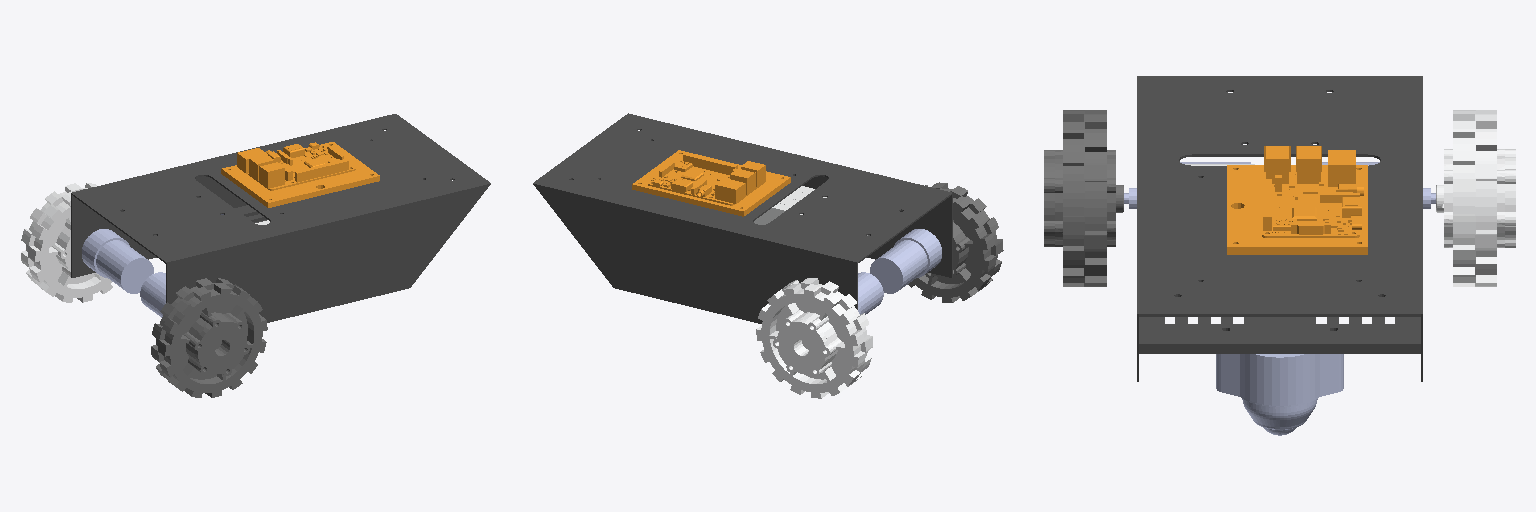
URDF robot description (watchdog):
<?xml version="1.0" encoding="utf-8"?>
<!-- This URDF was automatically created by SolidWorks to URDF Exporter! Originally created by [author] ([email redacted]) 
     Commit Version: 1.5.1-0-g916b5db  Build Version: 1.5.7152.31018
     For more information, please see http://wiki.ros.org/sw_urdf_exporter -->
<robot name="watchdog">

  <gazebo reference = "base_link">
    <material> Gazebo/Black </material>
  </gazebo>

  <gazebo>
    <plugin name="differential_drive_controller" filename="libgazebo_ros_diff_drive.so">
      <!-- Plugin update rate in Hz -->
      <updateRate>20</updateRate>
      <!-- Name of left joint, defaults to `left_joint` -->
      <leftJoint>LWheel_Joint</leftJoint>
      <!-- Name of right joint, defaults to `right_joint` -->
      <rightJoint>RWheel_Joint</rightJoint>
      <!-- The distance from the center of one wheel to the other, in meters, defaults to 0.34 m -->
      <wheelSeparation>0.222</wheelSeparation>
      <!-- Diameter of the wheels, in meters, defaults to 0.15 m -->
      <wheelDiameter>0.101</wheelDiameter>
      <!-- Wheel acceleration, in rad/s^2, defaults to 0.0 rad/s^2 -->
      <wheelAcceleration>1.0</wheelAcceleration>
      <!-- Maximum torque which the wheels can produce, in Nm, defaults to 5 Nm -->
      <wheelTorque>5</wheelTorque>
      <!-- Topic to receive geometry_msgs/Twist message commands, defaults to `cmd_vel` -->
      <commandTopic>cmd_vel</commandTopic>
      <!-- Topic to publish nav_msgs/Odometry messages, defaults to `odom` -->
      <odometryTopic>odom</odometryTopic>
      <!-- Odometry frame, defaults to `odom` -->
      <odometryFrame>odom</odometryFrame>
      <!-- Robot frame to calculate odometry from, defaults to `base_footprint` -->
      <robotBaseFrame>base_link</robotBaseFrame>
      <!-- Odometry source, 0 for ENCODER, 1 for WORLD, defaults to WORLD -->
      <odometrySource>1</odometrySource>
      <!-- Set to true to publish transforms for the wheel links, defaults to false -->
      <publishWheelTF>true</publishWheelTF>
      <!-- Set to true to publish transforms for the odometry, defaults to true -->
      <publishOdom>true</publishOdom>
      <!-- Set to true to publish sensor_msgs/JointState on /joint_states for the wheel joints, defaults to false -->
      <publishWheelJointState>true</publishWheelJointState>
      <!-- Set to true to swap right and left wheels, defaults to true -->
      <legacyMode>false</legacyMode>
    </plugin>
  </gazebo>

 <!-- hokuyo -->
  <gazebo reference="Lidar_Link">
    <sensor type="ray" name="head_hokuyo_sensor">
      <pose>0 0 0 0 0 0</pose>
      <visualize>false</visualize>
      <update_rate>7.69</update_rate>
      <ray>
        <scan>
          <horizontal>
            <samples>360</samples>
            <resolution>1</resolution>
            <min_angle>-3.1416</min_angle>
            <max_angle>3.1416</max_angle>
          </horizontal>
        </scan>
        <range>
          <min>0.15</min>
          <max>12.0</max>
          <resolution>0.01</resolution>
        </range>
        <noise>
          <type>gaussian</type>
          <!-- Noise parameters based on published spec for Hokuyo laser
               achieving "+-30mm" accuracy at range < 10m.  A mean of 0.0m and
               stddev of 0.01m will put 99.7% of samples within 0.03m of the true
               reading. -->
          <mean>0.0</mean>
          <stddev>0.01</stddev>
        </noise>
      </ray>
      <plugin name="gazebo_ros_head_hokuyo_controller" filename="libgazebo_ros_laser.so">
        <topicName>/scan</topicName>
        <frameName>Lidar_Link</frameName>
      </plugin>
    </sensor>
  </gazebo>


  <!-- Creation of the base link-->
  <link name="base_link">
    <inertial>
      <origin xyz="0.131936538447687 1.10553634063114E-06 0.0291518597123196" rpy="0 0 0" />
      <mass value="0.272802334634605" />
      <inertia
        ixx="0.000959804973774207"
        ixy="-2.50333273274086E-08"
        ixz="-4.350901863945E-05"
        iyy="0.0015886682926646"
        iyz="-5.05968513283588E-09"
        izz="0.0023886132736546" />
    </inertial>
    <visual>
      <origin xyz="0 0 0" rpy="0 0 0" />
      <geometry>
        <mesh filename="package://simulation_watchdog/meshes/base_link.STL" />
      </geometry>
      <material name="black">
        <color rgba="0.372549019607843 0.372549019607843 0.372549019607843 1" />
      </material>
    </visual>
    <collision>
      <origin xyz="0 0 0" rpy="0 0 0" />
      <geometry>
        <mesh filename="package://simulation_watchdog/meshes/base_link.STL" />
      </geometry>
    </collision>

  <!-- Creation of the right motor link-->
  </link>
  <link name="RMotor_Link">
    <inertial>
      <origin xyz="-0.00012589 -1.0678E-06 -0.0080017" rpy="0 0 0" />
      <mass value="0.059905" />
      <inertia
        ixx="2.6079E-05"
        ixy="-4.4446E-10"
        ixz="2.7414E-07"
        iyy="2.6131E-05"
        iyz="2.8465E-09"
        izz="8.8604E-06" />
    </inertial>
    <visual>
      <origin xyz="0 0 0" rpy="0 0 0" />
      <geometry>
        <mesh filename="package://simulation_watchdog/meshes/RMotor_Link.STL" />
      </geometry>
      <material name="gray">
        <color rgba="0.79216 0.81961 0.93333 1" />
      </material>
    </visual>
    <collision>
      <origin xyz="0 0 0" rpy="0 0 0" />
      <geometry>
        <mesh filename="package://simulation_watchdog/meshes/RMotor_Link.STL" />
      </geometry>
    </collision>
  </link>

  <!-- Creation of the right motor joint-->
  <joint name="RMotor_Joint" type="fixed">
    <origin xyz="0.00306359051227961 0.0585 0.00629399818662646" rpy="-1.5707963267949 -1.11780647710814 0" />
    <parent link="base_link" />
    <child link="RMotor_Link" />
    <axis xyz="0 0 0" />
  </joint>

  <!-- Creation of the right motor link-->
  <link name="RWheel_Link">
    <inertial>
      <origin xyz="3.6475E-06 4.8973E-07 0.022928" rpy="0 0 0" />
      <mass value="0.15938" />
      <inertia
        ixx="9.5251E-05"
        ixy="5.1179E-10"
        ixz="4.5036E-09"
        iyy="9.5247E-05"
        iyz="6.0466E-10"
        izz="0.00017092" />
    </inertial>
    <visual>
      <origin xyz="0 0 0" rpy="0 0 0" />
      <geometry>
        <mesh filename="package://simulation_watchdog/meshes/RWheel_Link.STL" />
      </geometry>
      <material name="blue">
        <color rgba="0.99216 0.99608 1 1" />
      </material>
    </visual>
    <collision>
      <origin xyz="0 0 0" rpy="0 0 0" />
      <geometry>
        <mesh filename="package://simulation_watchdog/meshes/RWheel_Link.STL" />
      </geometry>
    </collision>
  </link>

  <!-- Creation of the joint of the right wheel-->
  <joint name="RWheel_Joint" type="continuous">
    <origin xyz="-0.00700000000000006 0 0.0305" rpy="0 0 -2.02378617648165" />
    <parent link="RMotor_Link" />
    <child link="RWheel_Link" />
    <axis xyz="0 0 1" />
  </joint>

  <!-- Creation of the left motor link-->
  <link name="LMotor_Link">
    <inertial>
      <origin xyz="1.06776487074356E-06 -0.00012589011706593 -0.00800171182746316" rpy="0 0 0" />
      <mass value="0.0599050546017115" />
      <inertia
        ixx="2.61310804093162E-05"
        ixy="4.44461472402403E-10"
        ixz="-2.84653031957168E-09"
        iyy="2.60791206087044E-05"
        iyz="2.74140992935313E-07"
        izz="8.86042100272929E-06" />
    </inertial>
    <visual>
      <origin xyz="0 0 0" rpy="0 0 0" />
      <geometry>
        <mesh filename="package://simulation_watchdog/meshes/LMotor_Link.STL" />
      </geometry>
      <material name="gray">
        <color rgba="0.792156862745098 0.819607843137255 0.933333333333333 1" />
      </material>
    </visual>
    <collision>
      <origin xyz="0 0 0" rpy="0 0 0" />
      <geometry>
        <mesh filename="package://simulation_watchdog/meshes/LMotor_Link.STL" />
      </geometry>
    </collision>
  </link>

  <!-- Creation of the left motor joint-->
  <joint name="LMotor_Joint" type="fixed">
    <origin xyz="0.00306359051226426 -0.0585 0.00629399818661908" rpy="1.5707963267949 0.452989849686705 0" />
    <parent link="base_link" />
    <child link="LMotor_Link" />
    <axis xyz="0 0 0" />
  </joint>

  <!-- Creation of the left motor link-->
  <link name="LWheel_Link">
    <inertial>
      <origin xyz="3.5742488281032E-06 -8.76760330448256E-07 0.0229277158892154" rpy="0 0 0" />
      <mass value="0.15937870113268" />
      <inertia
        ixx="9.52505224252278E-05"
        ixy="-3.32221854470471E-10"
        ixz="4.41313990648216E-09"
        iyy="9.5247452224434E-05"
        iyz="-1.08255118295134E-09"
        izz="0.000170917219653993" />
    </inertial>
    <visual>
      <origin xyz="0 0 0" rpy="0 0 0" />
      <geometry>
        <mesh filename="package://simulation_watchdog/meshes/LWheel_Link.STL" />
      </geometry>
      <material name="blue">
        <color rgba="0.501960784313725 0.501960784313725 0.501960784313725 1" />
      </material>
    </visual>
    <collision>
      <origin xyz="0 0 0" rpy="0 0 0" />
      <geometry>
        <mesh filename="package://simulation_watchdog/meshes/LWheel_Link.STL" />
      </geometry>
    </collision>
  </link>

  <!-- Creation of the left wheel joint-->
  <joint name="LWheel_Joint" type="continuous">
    <origin xyz="0 -0.00700000000000001 0.0305" rpy="0 0 0.452989849686705" />
    <parent link="LMotor_Link" />
    <child link="LWheel_Link" />
    <axis xyz="0 0 -1" />
  </joint>

  <!-- Creation of the battery link-->
  <link name="Battery_Link">
    <inertial>
      <origin xyz="-7.95303784825035E-07 2.27409651936544E-06 0.0159926769522142" rpy="0 0 0" />
      <mass value="0.231124740264454" />
      <inertia
        ixx="6.95417445265297E-05"
        ixy="-1.09669422228775E-08"
        ixz="2.94290313071721E-09"
        iyy="0.000406525755701883"
        iyz="-8.38336036105375E-09"
        izz="0.000437193560344446" />
    </inertial>
    <visual>
      <origin xyz="0 0 0" rpy="0 0 0" />
      <geometry>
        <mesh filename="package://simulation_watchdog/meshes/Battery_Link.STL" />
      </geometry>
      <material name="blue">
        <color rgba="0.992156862745098 1 1 1" />
      </material>
    </visual>
    <collision>
      <origin xyz="0 0 0" rpy="0 0 0" />
      <geometry>
        <mesh filename="package://simulation_watchdog/meshes/Battery_Link.STL" />
      </geometry>
    </collision>
  </link>

  <!-- Creation of battery joint-->
  <joint name="Battery_Joint" type="fixed">
    <origin xyz="0.116500000000015 -0.04 0.0135000000000076" rpy="0 0 3.14159265358979" />
    <parent link="base_link" />
    <child link="Battery_Link" />
    <axis xyz="0 0 0" />
  </joint>

  <!-- Creation of the motoshield link-->
  <link name="MotoShield_Link">
    <inertial>
      <origin xyz="-0.000906663253647078 1.81987746071532E-05 0.00324859919524972" rpy="0 0 0" />
      <mass value="0.00965020666023458" />
      <inertia
        ixx="1.72879845391036E-06"
        ixy="2.95059873571204E-08"
        ixz="-2.04998086154079E-08"
        iyy="3.29786098239132E-06"
        iyz="-3.49996753867047E-10"
        izz="4.80689992233693E-06" />
    </inertial>
    <visual>
      <origin xyz="0 0 0" rpy="0 0 0" />
      <geometry>
        <mesh filename="package://simulation_watchdog/meshes/MotoShield_Link.STL" />
      </geometry>
      <material name="">
        <color rgba="0.792156862745098 0.819607843137255 0.933333333333333 1" />
      </material>
    </visual>
    <collision>
      <origin xyz="0 0 0" rpy="0 0 0" />
      <geometry>
        <mesh filename="package://simulation_watchdog/meshes/MotoShield_Link.STL" />
      </geometry>
    </collision>
  </link>

  <!-- Creation of the motoshield joint-->
  <joint name="MotoShield_Joint" type="fixed">
    <origin xyz="0.087850000000015 0.04715 0.0135000000000076" rpy="0 0 3.14159265358979" />
    <parent link="base_link" />
    <child link="MotoShield_Link" />
    <axis xyz="0 0 0" />
  </joint>

  <!-- Creation of the rasp link-->
  <link name="Rasp_Link">
    <inertial>
      <origin xyz="0.0597184603825512 0.0372848625782793 0.000466138543304295" rpy="0 0 0" />
      <mass value="0.0685167860703749" />
      <inertia
        ixx="2.53790376425816E-05"
        ixy="7.71182132417783E-09"
        ixz="7.17598630634175E-11"
        iyy="4.93580215384763E-05"
        iyz="2.92552324423039E-10"
        izz="7.40592965310709E-05" />
    </inertial>
    <visual>
      <origin xyz="0 0 0" rpy="0 0 0" />
      <geometry>
        <mesh filename="package://simulation_watchdog/meshes/Rasp_Link.STL" />
      </geometry>
      <material name="">
        <color rgba="1 0.670588235294118 0.231372549019608 1" />
      </material>
    </visual>
    <collision>
      <origin xyz="0 0 0" rpy="0 0 0" />
      <geometry>
        <mesh filename="package://simulation_watchdog/meshes/Rasp_Link.STL" />
      </geometry>
    </collision>
  </link>

  <!-- Creation of rasp joint-->
  <joint name="Rasp_Joint" type="fixed">
    <origin xyz="0.215000000000015 0.05 0.0700000000000076" rpy="0 0 3.14159265358979" />
    <parent link="base_link" />
    <child link="Rasp_Link" />
    <axis xyz="0 0 0" />
  </joint>

  <!-- Creation of the lidar link-->
  <link name="Lidar_Link">
    <inertial>
      <origin xyz="0.0119211686233717 -0.000829632078116571 -0.00986495283628119" rpy="0 0 0" />
      <mass value="0.0730824721228451" />
      <inertia
        ixx="1.95777683483548E-05"
        ixy="-4.513404161978E-08"
        ixz="-4.28225037550584E-07"
        iyy="2.41278365751439E-05"
        iyz="1.51629263532263E-08"
        izz="4.14181727753719E-05" />
    </inertial>
    <visual>
      <origin xyz="0 0 0" rpy="0 0 0" />
      <geometry>
        <mesh filename="package://simulation_watchdog/meshes/Lidar_Link.STL" />
      </geometry>
      <material name="">
        <color rgba="0.486274509803922 0.486274509803922 0.486274509803922 1" />
      </material>
    </visual>
    <collision>
      <origin xyz="0 0 0" rpy="0 0 0" />
      <geometry>
        <mesh filename="package://simulation_watchdog/meshes/Lidar_Link.STL" />
      </geometry>
    </collision>
  </link>

  <!-- Creation of the lidar joint-->
  <joint name="Lidar_Joint" type="fixed">
    <origin xyz="0.0245950902140598 0.000353235794243532 0.0996000000000025" rpy="0 0 0" />
    <parent link="base_link" />
    <child link="Lidar_Link" />
    <axis xyz="0 0 0" />
  </joint>

  <!-- Creation of the caster wheel link-->
  <link name="FreeWheel_Link">
    <inertial>
      <origin xyz="0.000365289585873632 -0.000118819536407379 0.0104403397653149" rpy="0 0 0" />
      <mass value="0.0819906643957427" />
      <inertia
        ixx="2.33283423261154E-05"
        ixy="-1.8131715732486E-22"
        ixz="-5.1578607958041E-22"
        iyy="1.6590557819557E-05"
        iyz="-4.28637987585813E-22"
        izz="2.8648637026961E-05" />
    </inertial>
    <visual>
      <origin xyz="0 0 0" rpy="0 0 0" />
      <geometry>
        <mesh filename="package://simulation_watchdog/meshes/FreeWheel_Link.STL" />
      </geometry>
      <material name="">
        <color rgba="0.792156862745098 0.819607843137255 0.933333333333333 1" />
      </material>
    </visual>
    <collision>
      <origin xyz="0 0 0" rpy="0 0 0" />
      <geometry>
        <mesh filename="package://simulation_watchdog/meshes/FreeWheel_Link.STL" />
      </geometry>
    </collision>
  </link>

  <!-- Creation of the caster wheel joint-->
  <joint name="FreeWheel_Joint" type="fixed">
    <origin xyz="0.205365289585889 -0.000118819536407307 -0.0227799999999924" rpy="0 0 3.14159265358979" />
    <parent link="base_link" />
    <child link="FreeWheel_Link" />
    <axis xyz="0 0 0" />
  </joint>
</robot>

--- What the picture shows (computed from the rendered views, not written in the file) ---
3 views of the same robot in one strip: view 1: azimuth 30°, elevation 25°; view 2: azimuth 150°, elevation 25°; view 3: azimuth 270°, elevation 25° (orthographic).
Robot: watchdog — 10 links, 9 joints (2 continuous, 7 fixed); root link base_link; default pose: all joints at 0.
Links seen in each view (by area): view 1: base_link, LWheel_Link, Rasp_Link, RWheel_Link, RMotor_Link, LMotor_Link; view 2: base_link, RWheel_Link, Rasp_Link, LWheel_Link, LMotor_Link, RMotor_Link, Battery_Link; view 3: base_link, Rasp_Link, RWheel_Link, LWheel_Link, FreeWheel_Link.
Boxes of the visible links, bbox=[...] form: base_link: bbox=[71, 114, 490, 322]; LWheel_Link: bbox=[151, 278, 267, 397]; Rasp_Link: bbox=[221, 142, 379, 207]; RWheel_Link: bbox=[21, 183, 112, 302]; RMotor_Link: bbox=[82, 229, 153, 293]; LMotor_Link: bbox=[140, 272, 165, 317]; base_link: bbox=[533, 113, 952, 323]; RWheel_Link: bbox=[756, 278, 872, 398]; Rasp_Link: bbox=[632, 150, 790, 216]; LWheel_Link: bbox=[908, 182, 1003, 302]; LMotor_Link: bbox=[870, 229, 941, 293]; RMotor_Link: bbox=[858, 272, 883, 314]; Battery_Link: bbox=[754, 186, 868, 235]; base_link: bbox=[1137, 76, 1422, 381]; Rasp_Link: bbox=[1227, 146, 1367, 254]; RWheel_Link: bbox=[1436, 110, 1515, 286]; LWheel_Link: bbox=[1044, 110, 1123, 286]; FreeWheel_Link: bbox=[1216, 354, 1343, 435].
Bounding box of the posed robot: 0.3455 × 0.2679 × 0.1394 m (x, y, z).
9 mesh visuals loaded from 10 distinct referenced files (9 binary STL); not drawn: 1 (reference not matched to a file when rendering).
